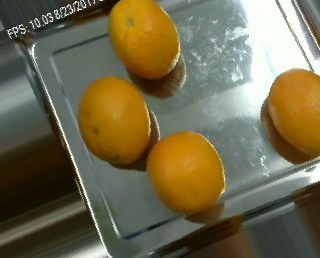Orange: (146, 130, 225, 216), (77, 73, 151, 164), (106, 1, 179, 79), (267, 68, 320, 156)
